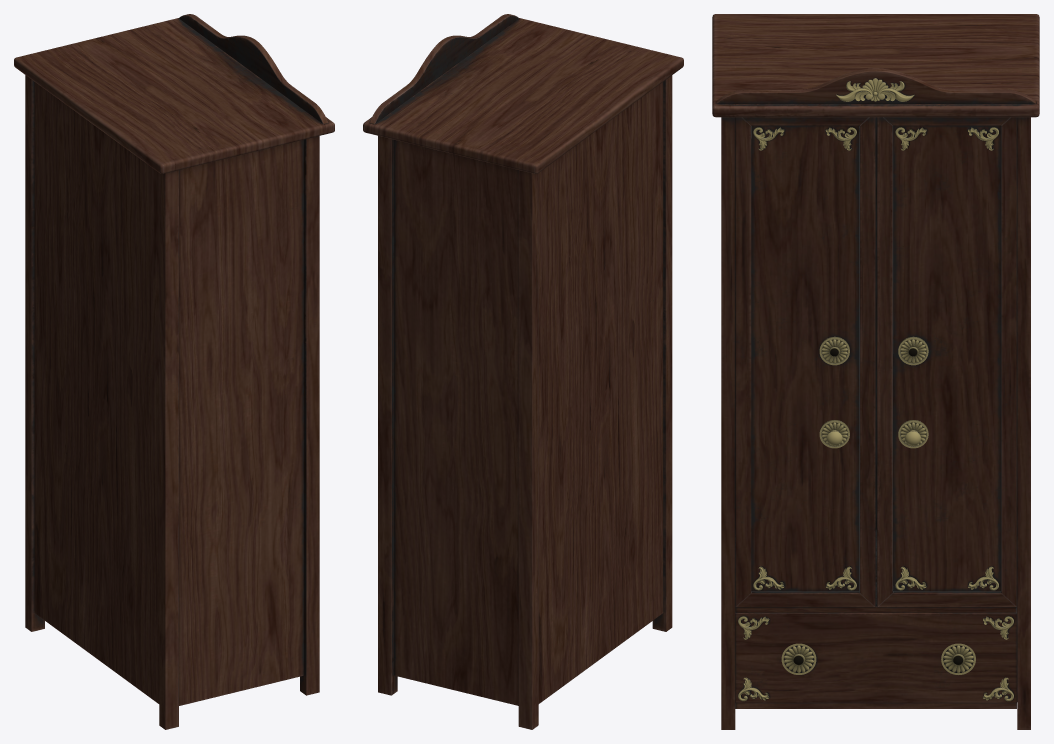
Rendered from Wardrobe.fbx.
The picture shows the model from 3 angles, left to right: view 1: azimuth 30°, elevation 25°; view 2: azimuth 150°, elevation 25°; view 3: azimuth 270°, elevation 25°; orthographic projection. The views are drawn at different scales.
Parts seen in each view (by area): view 1: Wardrobe; view 2: Wardrobe; view 3: Wardrobe, Orn_Down, Orn_Left, Orn_Right, Orn_Top.
Part boxes in pixels (x1,y1,x2,y2): Wardrobe: (14,14,334,729); Wardrobe: (363,14,683,729); Wardrobe: (712,14,1039,729); Orn_Down: (738,616,1013,701); Orn_Left: (753,127,856,590); Orn_Right: (895,127,998,590); Orn_Top: (836,78,914,101).
Bounding box in the file's own units: 74.03 × 242 × 108.
